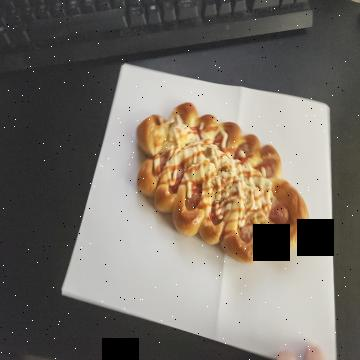pizza_bread: (136, 102, 310, 264)
